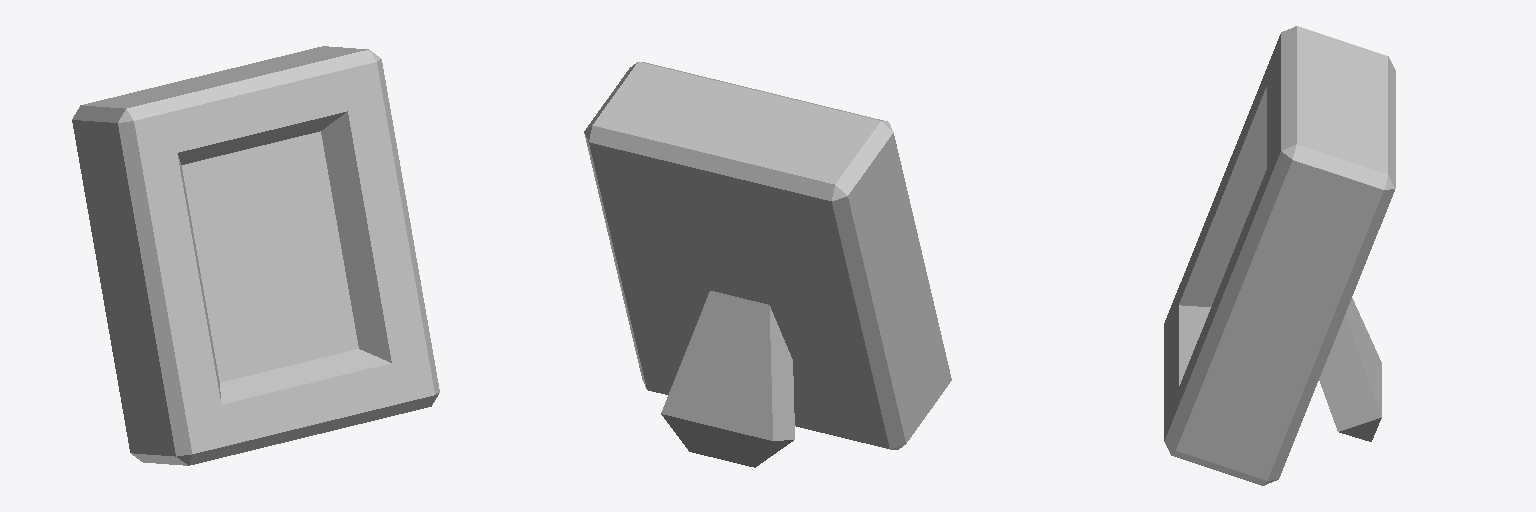
The model's file is pictureframe_standing_A.obj.
3 views of the same model, side by side, from view 1: azimuth 30°, elevation 25°; view 2: azimuth 150°, elevation 25°; view 3: azimuth 270°, elevation 25° (orthographic).
Parts seen in each view (by area): view 1: pictureframe_standing_A_Cube.024; view 2: pictureframe_standing_A_Cube.024; view 3: pictureframe_standing_A_Cube.024.
Part boxes in pixels (x1,y1,x2,y2): pictureframe_standing_A_Cube.024: (72,46,439,465); pictureframe_standing_A_Cube.024: (584,62,951,467); pictureframe_standing_A_Cube.024: (1164,26,1395,485).
Size of the model in its own units: 0.5 by 0.6185 by 0.3795.